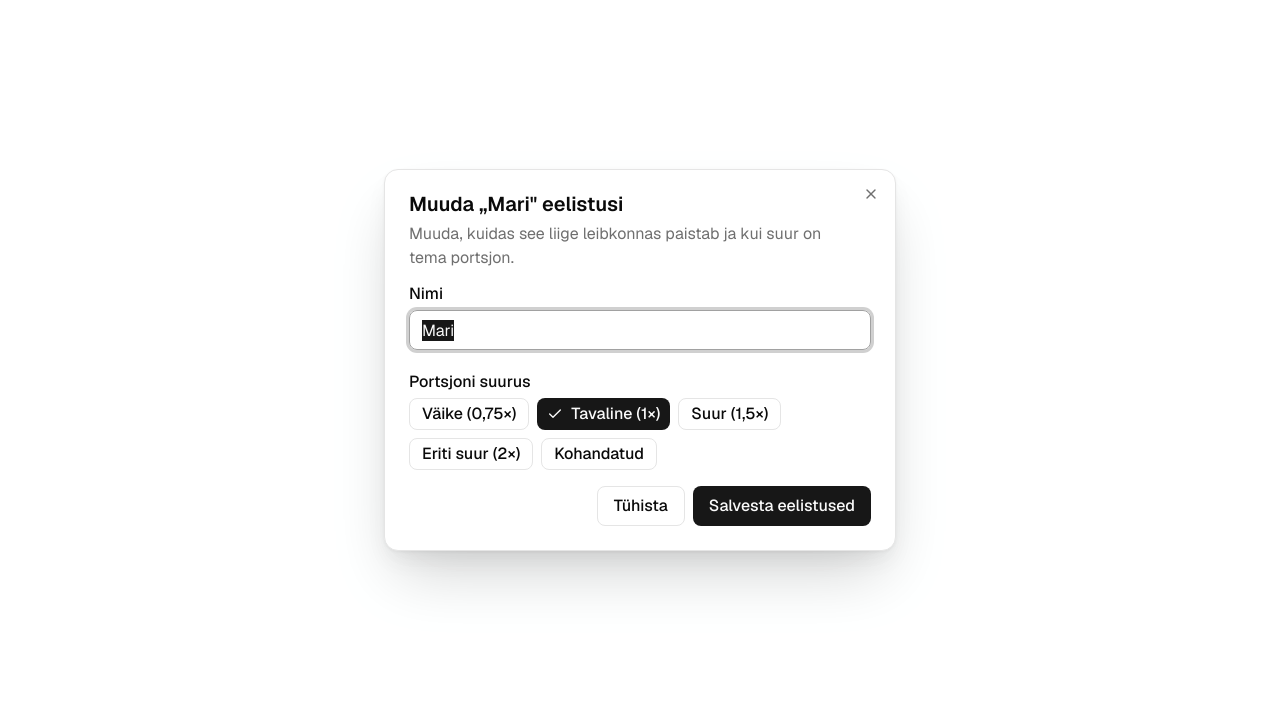
it: member dialogs in Estonian › EditMemberPreferencesDialog refuses an empty name for a manual member
Clear the field labelled "Nimi": (640, 330) [409,310,871,350]
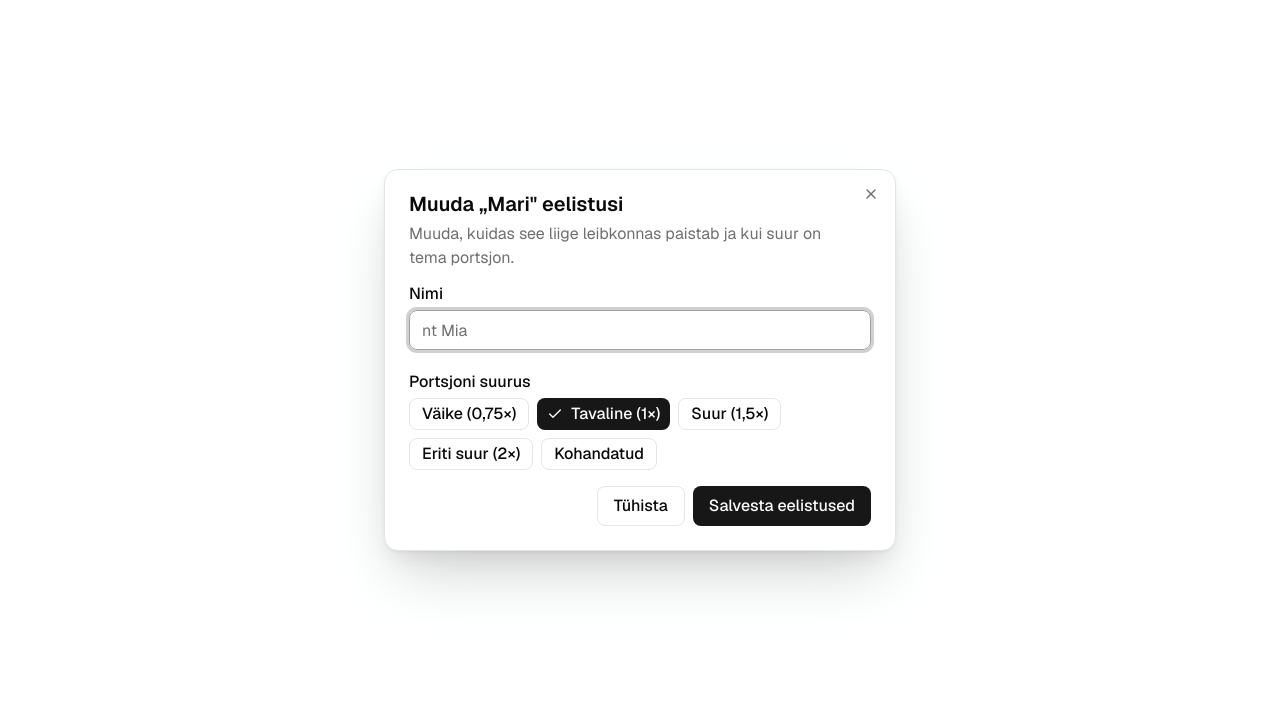
Click the button "Salvesta eelistused": (782, 506) [693,486,871,526]
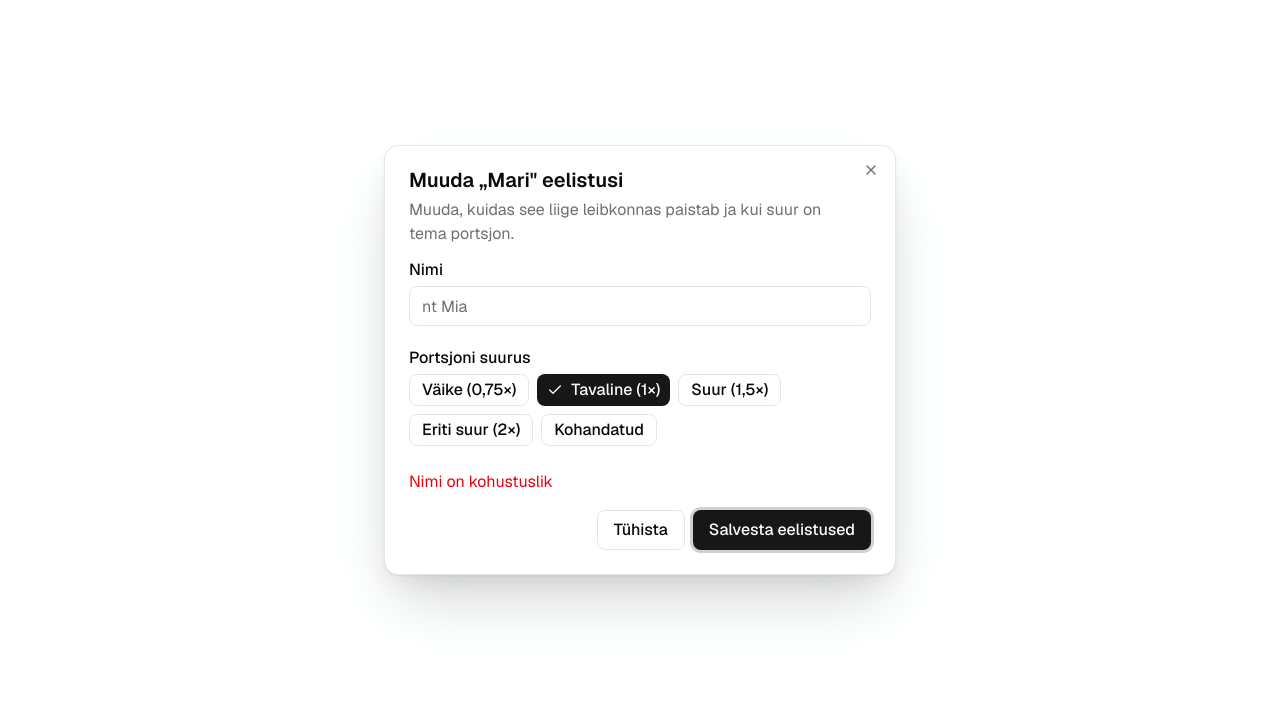
Check: the text "Nimi on kohustuslik" is shown, box [409,471,553,492]
